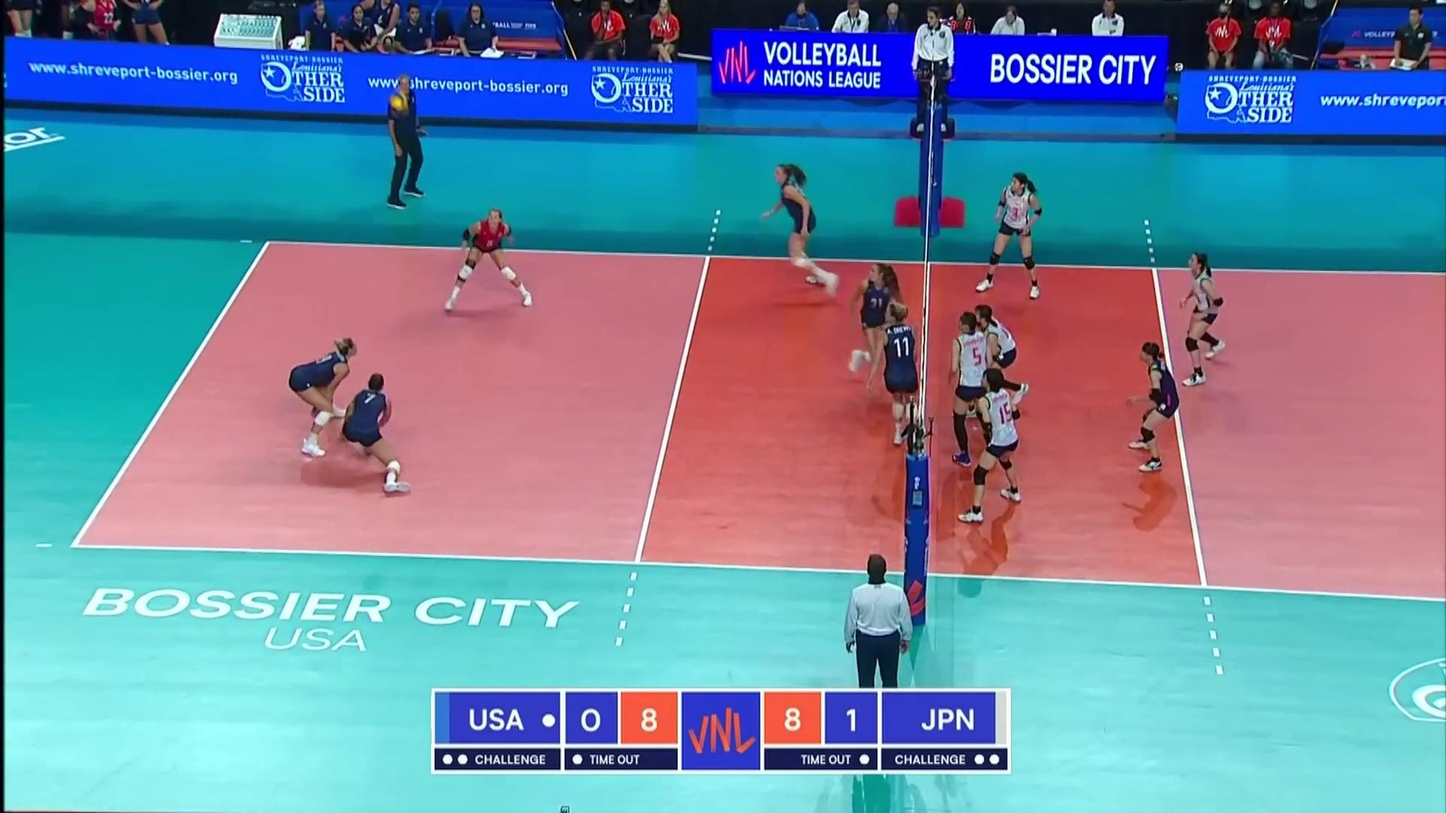player: (333, 369, 413, 497), (957, 368, 1023, 523), (445, 207, 535, 313), (290, 339, 362, 464), (864, 301, 924, 447), (947, 313, 1002, 466), (979, 173, 1043, 297), (764, 165, 828, 289), (843, 263, 902, 390), (1129, 342, 1180, 471), (1181, 253, 1229, 386), (972, 304, 1027, 413)
refree: (844, 556, 908, 739), (911, 8, 955, 136)
